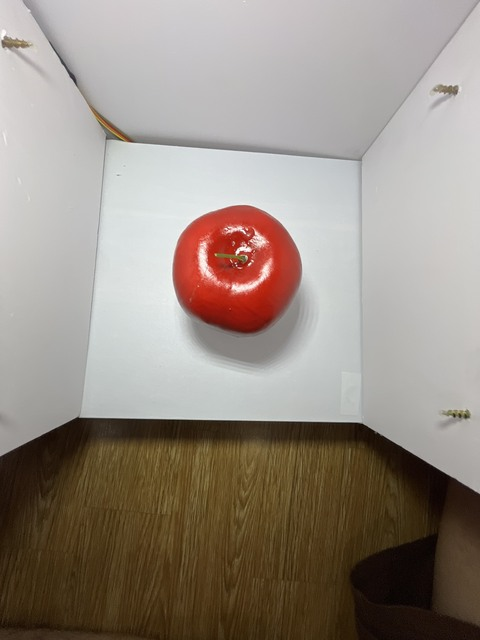Tao: (169, 200, 305, 339)
